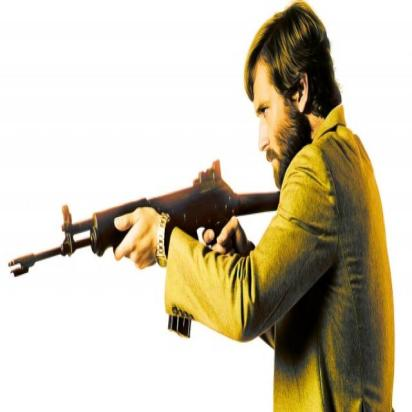Gun: (7, 156, 276, 338)
